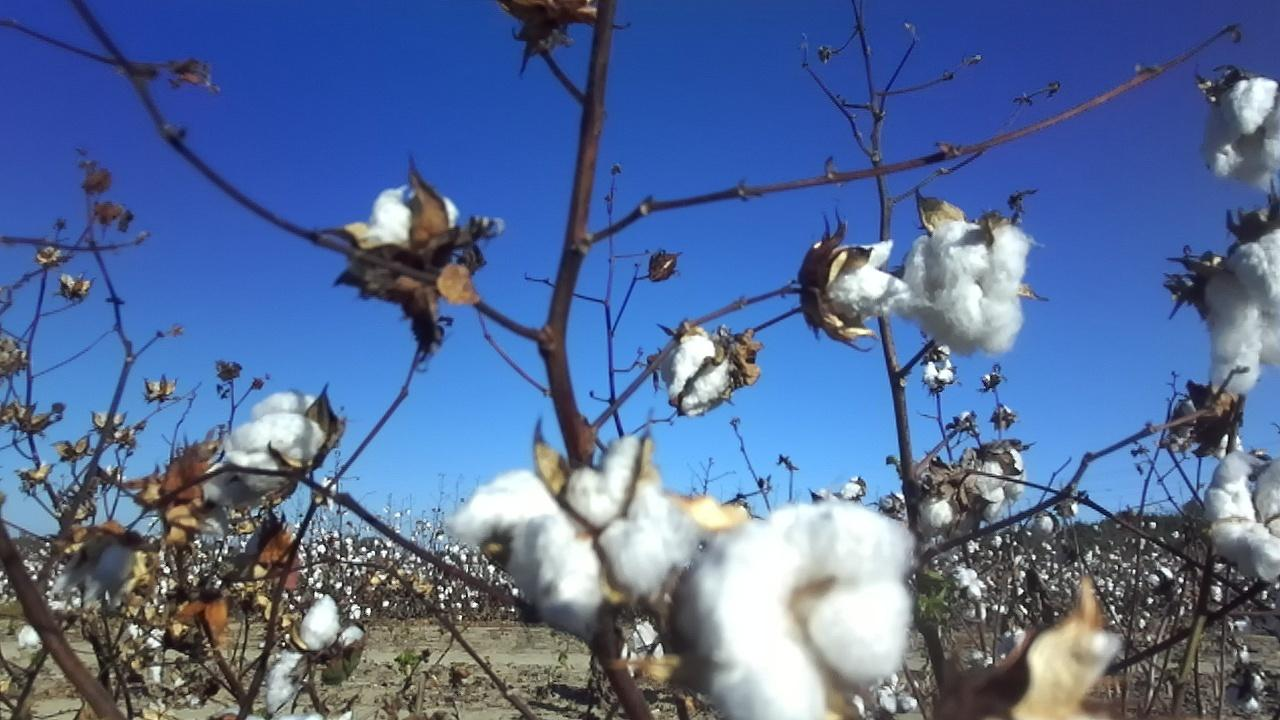cotton_ready: (449, 430, 700, 622), (697, 502, 915, 720), (908, 219, 1029, 355), (207, 390, 330, 502), (1199, 229, 1280, 397), (264, 597, 365, 714), (348, 184, 460, 277), (1205, 457, 1280, 585), (1199, 79, 1280, 191), (814, 242, 915, 318), (53, 539, 135, 606), (670, 333, 729, 419), (961, 449, 1025, 515), (917, 479, 958, 529)
